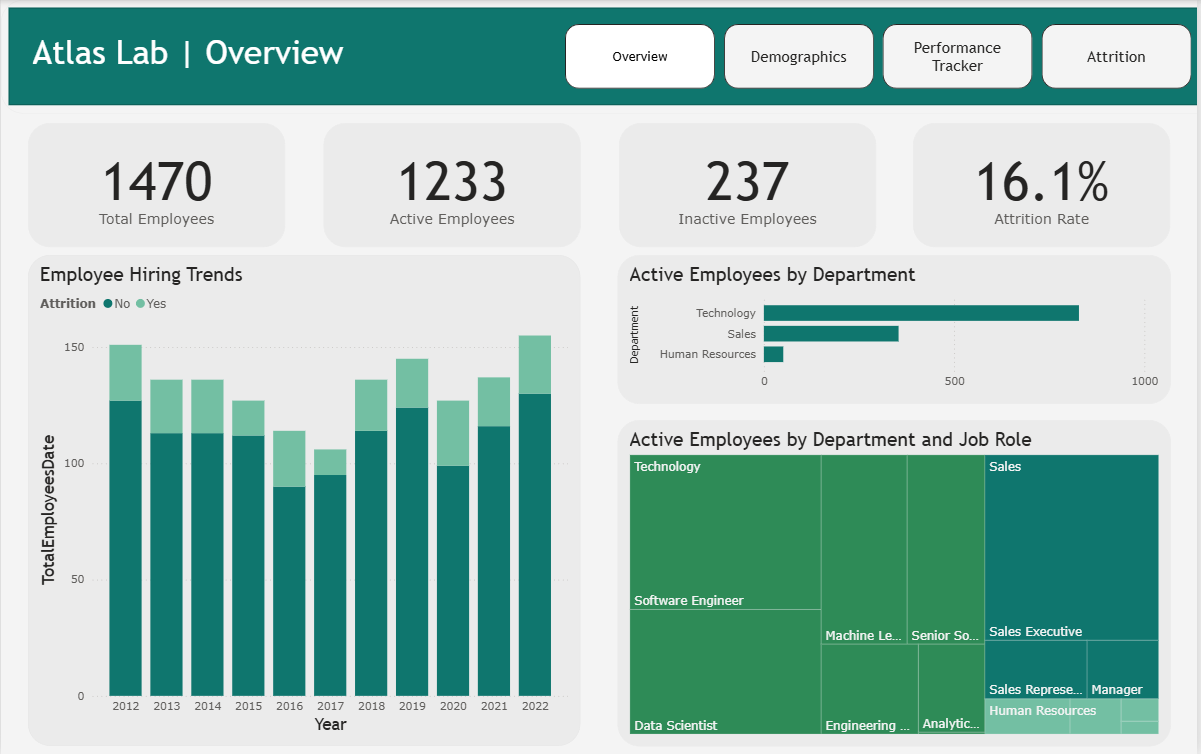

This screenshot's page, from the dashboard's own definition file:
{"tool":"powerbi","page":{"name":"Overview","canvas":[1350,850],"ordinal":0},"visuals":[{"type":"shape","box":[0,0,1380.3,127.9],"z":0},{"type":"card","fields":{"Values":["_Measures.TotalEmployees"]},"box":[30.8,138.5,290,140],"z":0,"group":"g2"},{"type":"pageNavigator","box":[636.1,27.9,706.6,73.8],"z":1000},{"type":"card","fields":{"Values":["_Measures.ActiveEmployees"]},"box":[363.6,138.5,290,140],"z":1000,"group":"g2"},{"type":"textbox","box":[30.8,27.6,454.1,111.9],"z":2000},{"type":"card","fields":{"Values":["_Measures.InactiveEmployees"]},"box":[696.3,138.5,290,140],"z":2000,"group":"g2"},{"type":"group","id":"g1","title":"Group 2","box":[30.7,138.5,1289.3,702.9],"z":3000},{"type":"card","fields":{"Values":["_Measures.AttritionRate"]},"box":[1029.1,138.5,290,140],"z":3000,"group":"g2"},{"type":"columnChart","title":"Employee Hiring Trends","fields":{"Category":["DimDate.Date.Variation.Date Hierarchy.Year","DimDate.Date.Variation.Date Hierarchy.Quarter","DimDate.Date.Variation.Date Hierarchy.Month","DimDate.Date.Variation.Date Hierarchy.Day"],"Y":["_Measures.TotalEmployeesDate"],"Series":["DimEmployee.Attrition"]},"box":[30.7,288,622.7,553.3],"z":4000,"group":"g1"},{"type":"clusteredBarChart","title":"Active Employees by Department","fields":{"Y":["_Measures.ActiveEmployees"],"Category":["DimEmployee.Department"]},"box":[696,288,624,168],"z":5000,"group":"g1"},{"type":"treemap","title":"Active Employees by Department and Job Role","fields":{"Group":["DimEmployee.Department"],"Details":["DimEmployee.JobRole"],"Values":["_Measures.ActiveEmployees"]},"box":[696,473.4,624,368],"z":6000,"group":"g1"},{"type":"group","id":"g2","title":"Group 1","box":[30.8,138.5,1288.5,140.4],"z":9001,"group":"g1"}]}

Visuals, with their boxes in screenshot pixels (x1, y1, x2, y2), scaled from the page's 1350x850 canvas onto the 1201x754 screenshot:
shape: <bbox>0, 0, 1200, 113</bbox>
card - _Measures.TotalEmployees: <bbox>27, 123, 285, 247</bbox>
pageNavigator: <bbox>566, 25, 1195, 90</bbox>
card - _Measures.ActiveEmployees: <bbox>323, 123, 581, 247</bbox>
textbox: <bbox>27, 24, 431, 124</bbox>
card - _Measures.InactiveEmployees: <bbox>619, 123, 877, 247</bbox>
"Group 2" group: <bbox>27, 123, 1174, 746</bbox>
card - _Measures.AttritionRate: <bbox>916, 123, 1174, 247</bbox>
"Employee Hiring Trends" columnChart: <bbox>27, 255, 581, 746</bbox>
"Active Employees by Department" clusteredBarChart: <bbox>619, 255, 1174, 404</bbox>
"Active Employees by Department and Job Role" treemap: <bbox>619, 420, 1174, 746</bbox>
"Group 1" group: <bbox>27, 123, 1174, 247</bbox>
